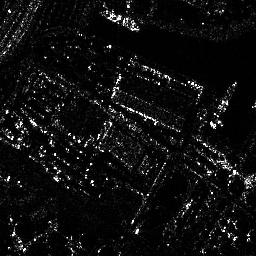ship: (208, 78, 238, 132), (98, 5, 145, 32)
